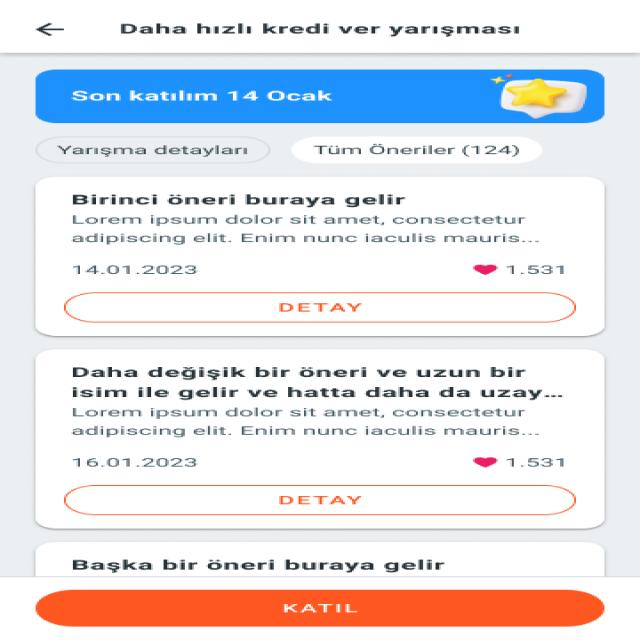QLabel: (64, 365, 569, 401), (67, 213, 547, 248), (63, 405, 547, 439), (59, 556, 448, 574), (95, 22, 527, 37), (68, 192, 416, 208), (65, 87, 334, 104), (309, 142, 521, 158), (51, 144, 253, 158), (268, 297, 368, 316), (67, 456, 201, 470), (69, 265, 198, 276), (269, 493, 364, 506), (279, 602, 360, 614), (507, 457, 569, 468), (508, 265, 568, 276)
VAppBar: (0, 1, 640, 54)
VBtn: (36, 589, 604, 628), (64, 291, 576, 324), (63, 485, 576, 516)
VCard: (34, 348, 609, 530), (34, 175, 606, 338), (32, 70, 608, 125), (37, 541, 607, 576)
VChip: (292, 134, 544, 166), (34, 135, 271, 164)
VFooter: (0, 578, 640, 640)
VIcon: (469, 263, 501, 277), (472, 454, 499, 470), (33, 23, 64, 36)
VImg: (490, 73, 594, 121)
